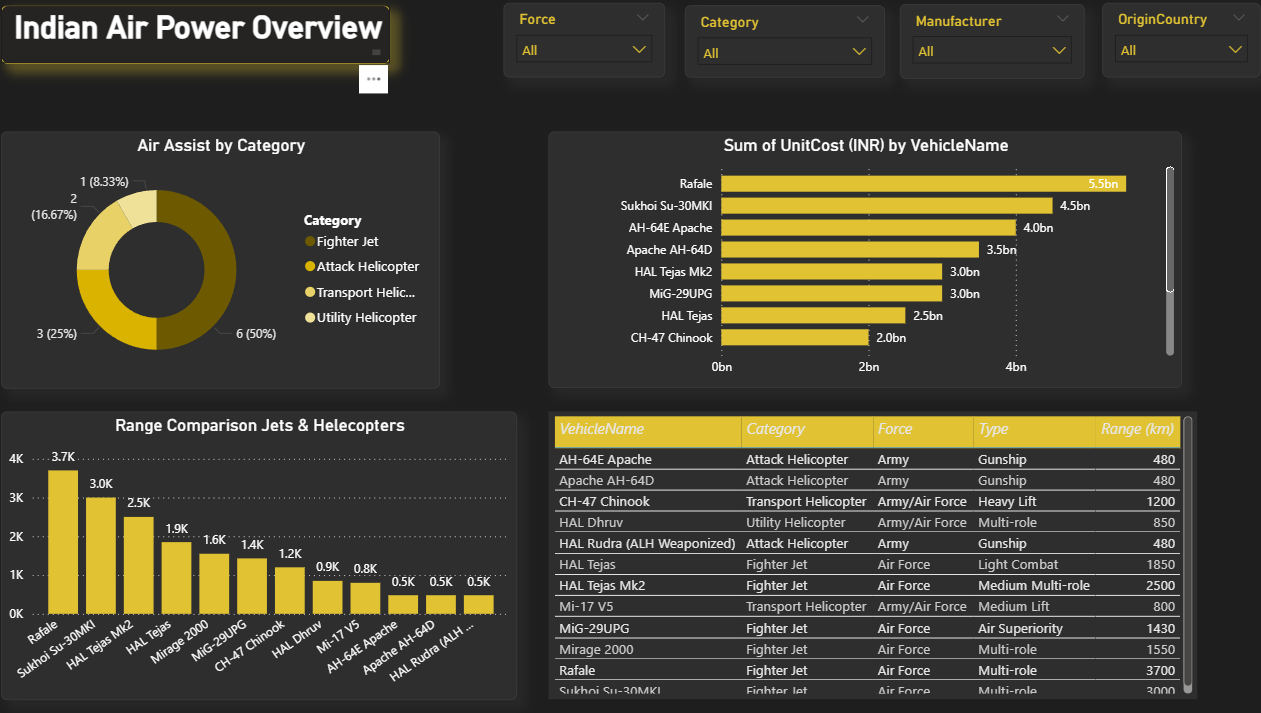

This screenshot's page, from the dashboard's own definition file:
{"tool":"powerbi","page":{"name":"Page 4","canvas":[1280,720],"ordinal":3},"visuals":[{"type":"textbox","title":"Indian Air Power Overview","box":[10,8.7,302.3,89.6],"z":0},{"type":"slicer","fields":{"Values":["Jets and Helecopters.Force"]},"box":[510,8.7,160.5,74.6],"z":1000},{"type":"slicer","fields":{"Values":["Jets and Helecopters.Category"]},"box":[690.4,11.2,199,72.1],"z":2000},{"type":"slicer","fields":{"Values":["Jets and Helecopters.Manufacturer"]},"box":[904.4,10,184.1,74.6],"z":3000},{"type":"slicer","fields":{"Values":["Jets and Helecopters.OriginCountry"]},"box":[1105.9,8.7,158,74.6],"z":4000},{"type":"pieChart","title":"Air Assist by Category","fields":{"Category":["Jets and Helecopters.Category"],"Y":["CountNonNull(Jets and Helecopters.VehicleName)"]},"box":[10,136.8,436.6,256.3],"z":5000},{"type":"barChart","fields":{"Category":["Jets and Helecopters.VehicleName"],"Y":["Sum(Jets and Helecopters.UnitCost (INR))"]},"box":[554.8,136.8,709.1,255],"z":6000},{"type":"columnChart","title":"Range Comparison Jets & Helecopters","fields":{"Category":["Jets and Helecopters.VehicleName"],"Y":["Sum(Jets and Helecopters.Range (km))"]},"box":[10,415.5,513.8,287.4],"z":7000},{"type":"tableEx","fields":{"Values":["Jets and Helecopters.VehicleName","Jets and Helecopters.Category","Jets and Helecopters.Force","Jets and Helecopters.Type","Jets and Helecopters.Range (km)"]},"box":[554.8,415.5,709.1,286.1],"z":8000}]}

Visuals, with their boxes in screenshot pixels (x1, y1, x2, y2), scaled from the page's 1280x720 canvas onto the 1261x713 screenshot:
"Indian Air Power Overview" textbox: (10,9,308,97)
slicer - Jets and Helecopters.Force: (502,9,661,82)
slicer - Jets and Helecopters.Category: (680,11,876,82)
slicer - Jets and Helecopters.Manufacturer: (891,10,1072,84)
slicer - Jets and Helecopters.OriginCountry: (1089,9,1245,82)
"Air Assist by Category" pieChart: (10,135,440,389)
barChart - Jets and Helecopters.VehicleName x Sum(Jets and Helecopters.UnitCost (INR)): (547,135,1245,388)
"Range Comparison Jets & Helecopters" columnChart: (10,411,516,696)
tableEx - Jets and Helecopters.VehicleName x Jets and Helecopters.Category: (547,411,1245,695)
